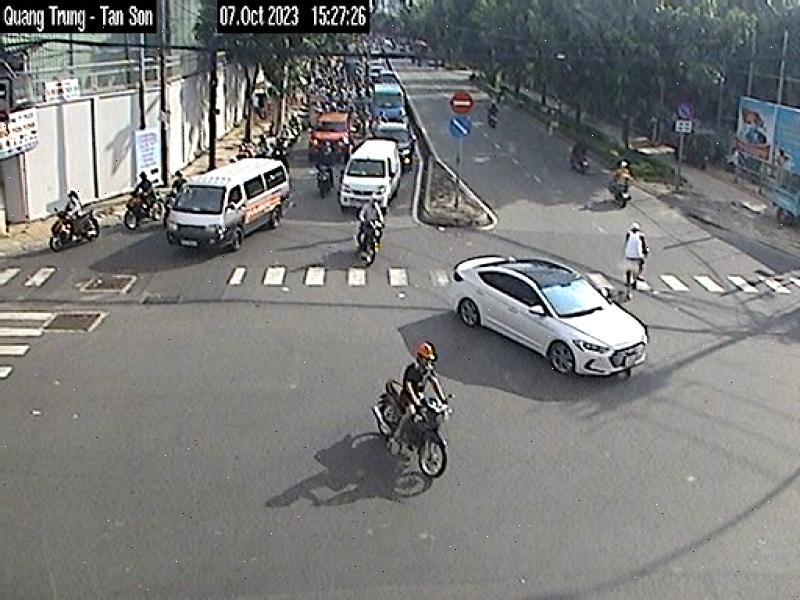car: (426, 235, 668, 387), (155, 154, 306, 268), (327, 132, 417, 238)
motorcycle: (344, 374, 477, 484)
